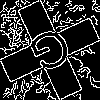G: (25, 25, 80, 83)
